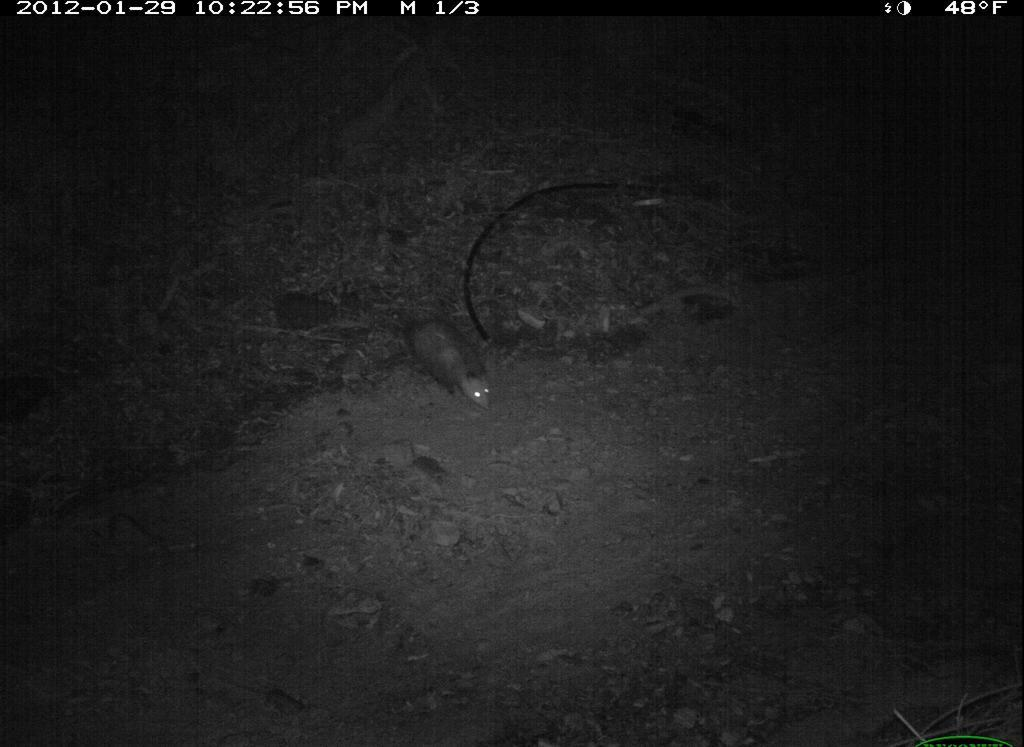opossum: (382, 304, 497, 422)
